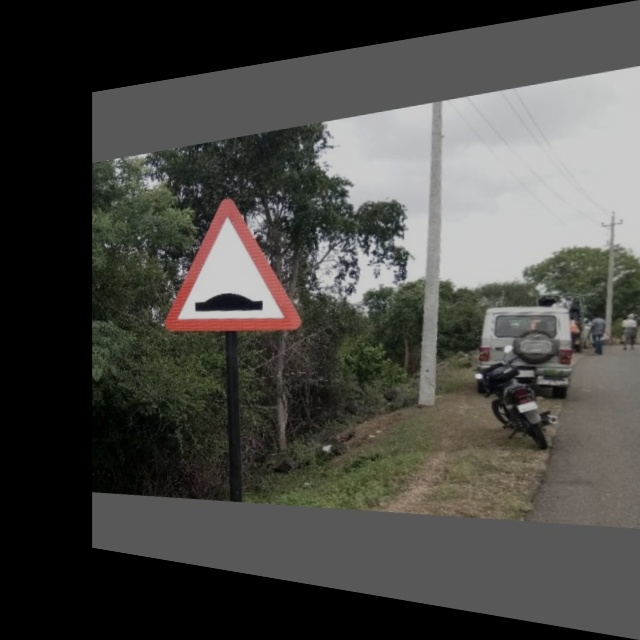Dangerous_Dip: (162, 186, 299, 338)
